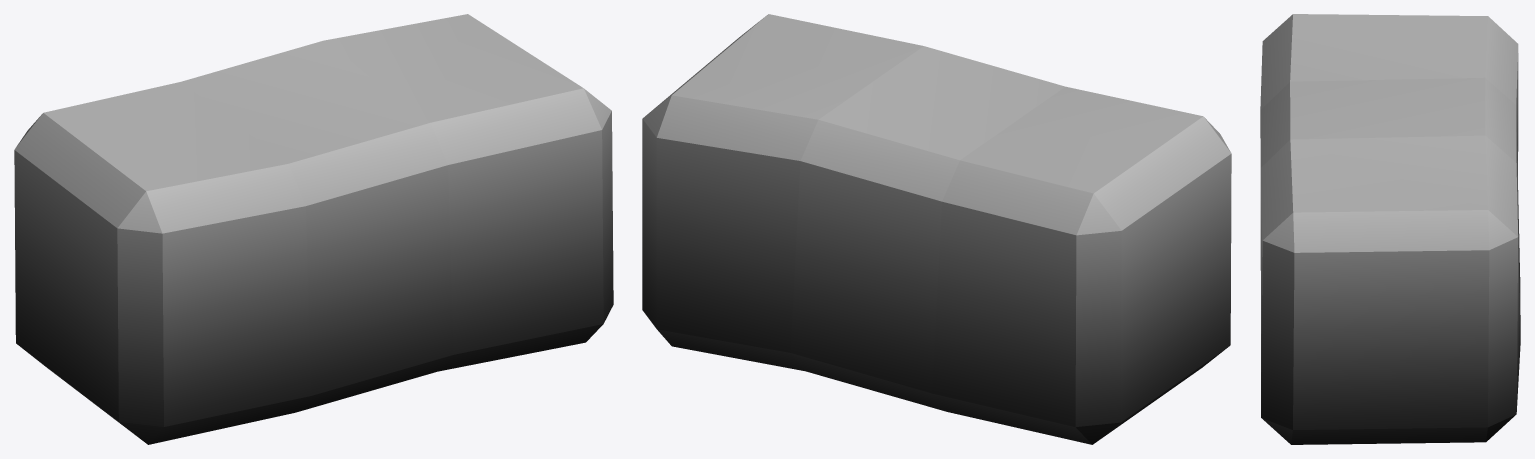
Rendered from Brick_01.fbx.
3 views of the same model, side by side, from view 1: azimuth 30°, elevation 25°; view 2: azimuth 150°, elevation 25°; view 3: azimuth 270°, elevation 25° (orthographic). The views are drawn at different scales.
Visible parts, largest first — view 1: Brick_01; view 2: Brick_01; view 3: Brick_01.
Boxes of the visible parts, <box> form: Brick_01: <box>14,14,613,444</box>; Brick_01: <box>642,14,1231,444</box>; Brick_01: <box>1260,14,1520,444</box>.
Size of the model in its own units: 40.89 by 20.79 by 20.34.
